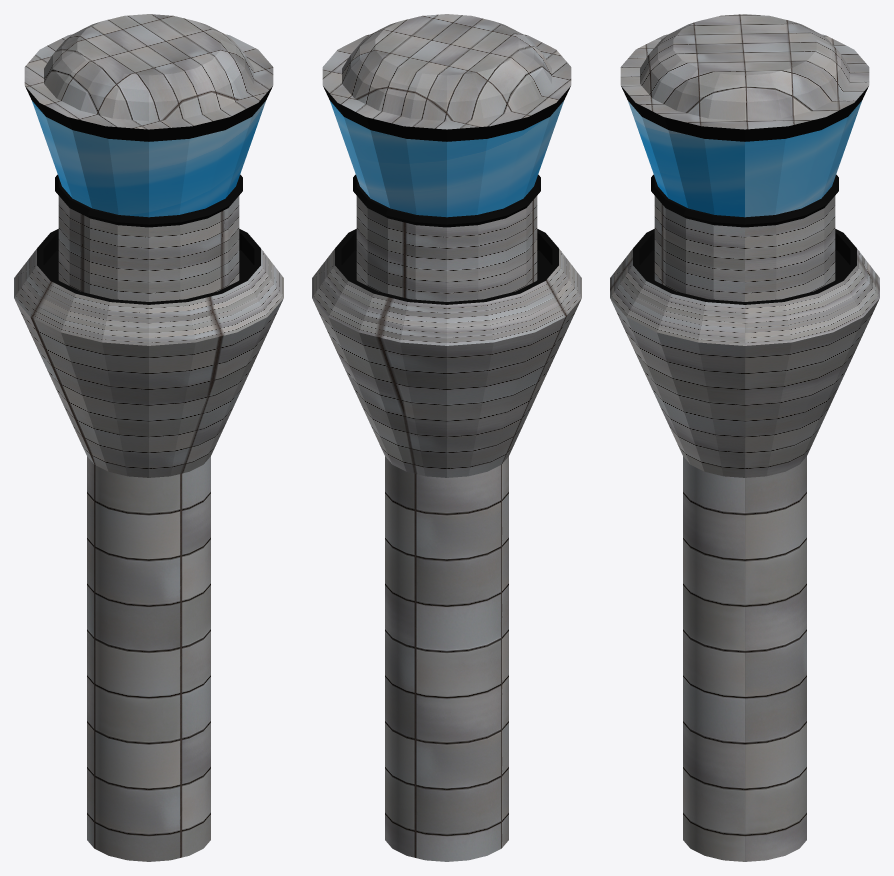
Rendered from Tower.FBX.
The picture shows the model from 3 angles, left to right: view 1: azimuth 30°, elevation 25°; view 2: azimuth 150°, elevation 25°; view 3: azimuth 270°, elevation 25°; orthographic projection.
Visible parts, largest first — view 1: Cylinder001; view 2: Cylinder001; view 3: Cylinder001.
Boxes of the visible parts, left/top/right/bottom form: Cylinder001: left=14, top=14, right=283, bottom=861; Cylinder001: left=312, top=14, right=581, bottom=861; Cylinder001: left=610, top=14, right=879, bottom=861.
Bounding box in the file's own units: 134 × 426 × 132.
